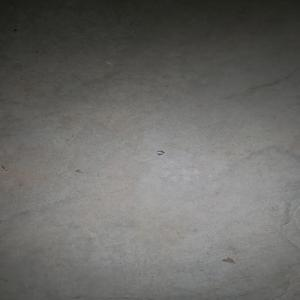Nut: (156, 151, 164, 157)
